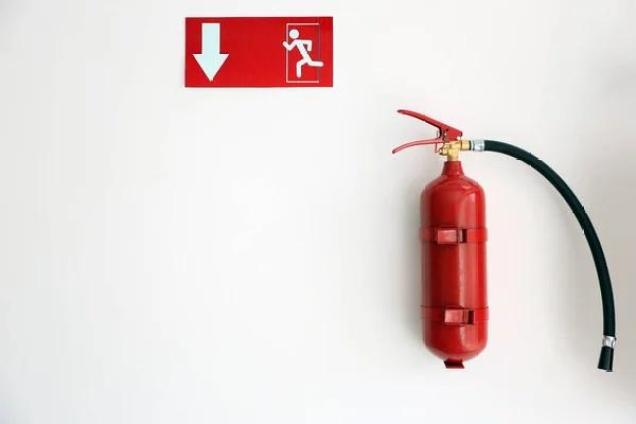APAR: (392, 108, 488, 369)
